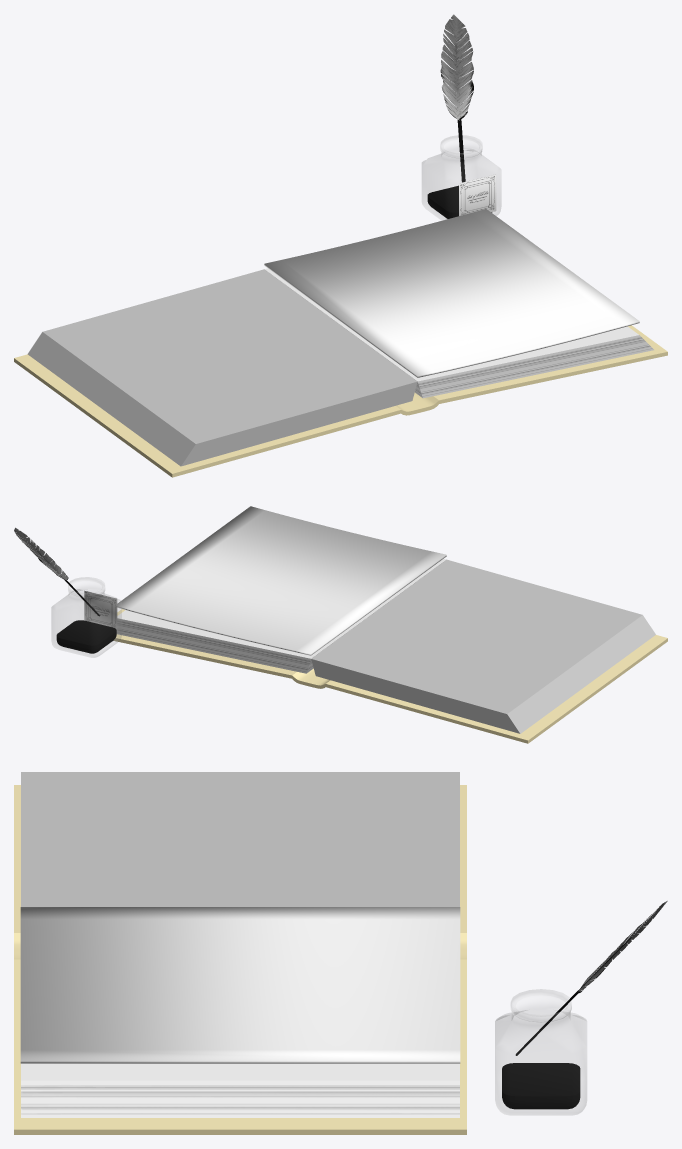
File: description_back.fbx
The picture shows the model from 3 angles, top to bottom: view 1: azimuth 30°, elevation 25°; view 2: azimuth 150°, elevation 25°; view 3: azimuth 270°, elevation 25°; orthographic projection. The views are drawn at different scales.
Parts seen in each view (by area): view 1: Cube.003, Cube.006, Cube.002, Cube, Cube.004, Plane.002, Cube.005; view 2: Cube.003, Cube.006, Cube.002, Cube, Cube.004, Cube.005, Plane.002; view 3: Cube.006, Cube.003, Cube, Cube.002, Cube.004, Cube.005, Plane.002.
Boxes of the visible parts, left/top/right/bottom form: Cube.003: left=27, top=269, right=417, bottom=466; Cube.006: left=264, top=209, right=639, bottom=377; Cube.002: left=14, top=325, right=667, bottom=477; Cube: left=264, top=268, right=653, bottom=398; Cube.004: left=422, top=135, right=501, bottom=220; Plane.002: left=440, top=14, right=473, bottom=182; Cube.005: left=427, top=185, right=492, bottom=218; Cube.003: left=311, top=559, right=655, bottom=733; Cube.006: left=117, top=506, right=446, bottom=655; Cube.002: left=113, top=609, right=667, bottom=743; Cube: left=116, top=559, right=446, bottom=673; Cube.004: left=51, top=577, right=121, bottom=657; Cube.005: left=56, top=620, right=116, bottom=653; Plane.002: left=14, top=527, right=100, bottom=616; Cube.006: left=20, top=907, right=460, bottom=1063; Cube.003: left=21, top=772, right=459, bottom=906; Cube: left=21, top=1063, right=459, bottom=1117; Cube.002: left=14, top=785, right=466, bottom=1134; Cube.004: left=495, top=989, right=586, bottom=1115; Cube.005: left=502, top=1063, right=580, bottom=1109; Plane.002: left=515, top=901, right=667, bottom=1055.
Size of what is drawn, in the model's own units: 329 by 104 by 252.
